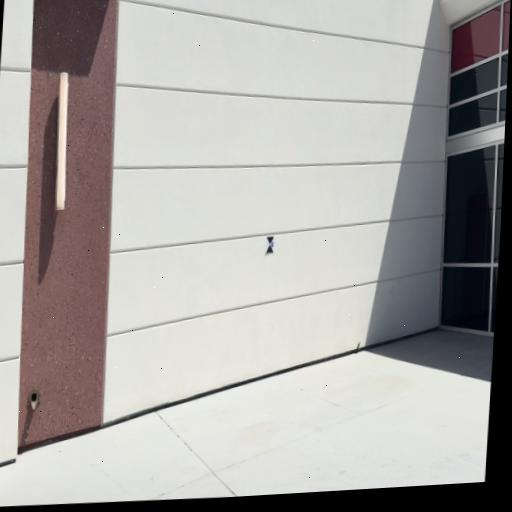target0: (266, 236, 274, 256)
